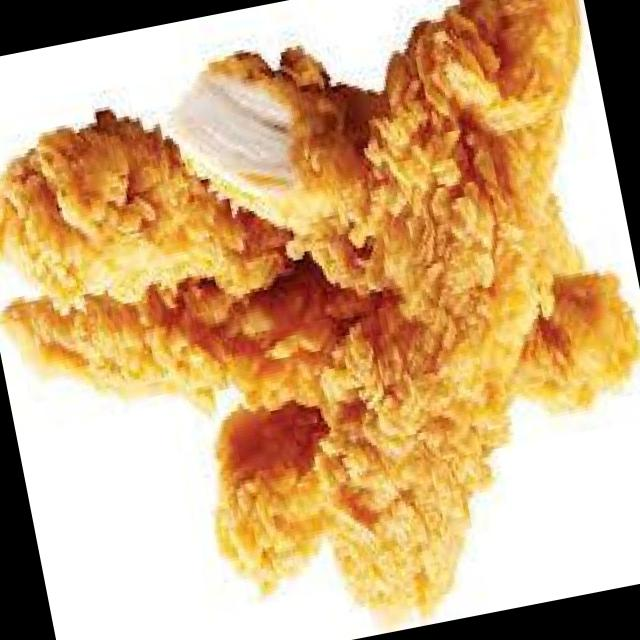Fried Chicken: (0, 0, 637, 620)
